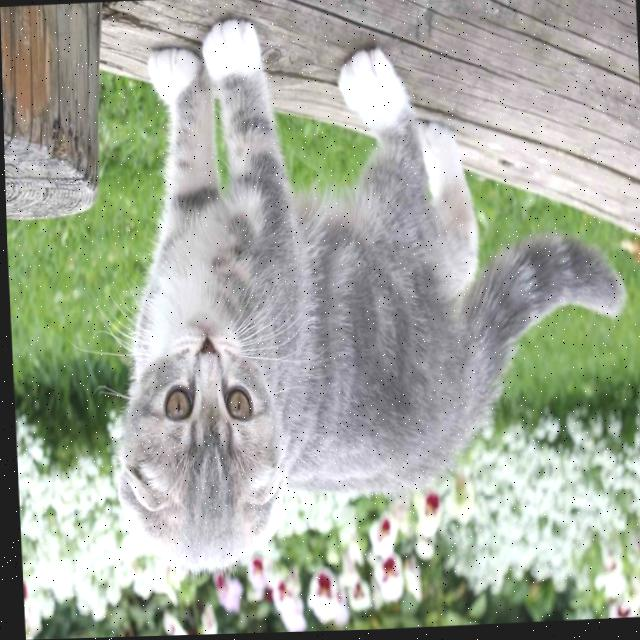Scottish Fold: (90, 0, 638, 580)
